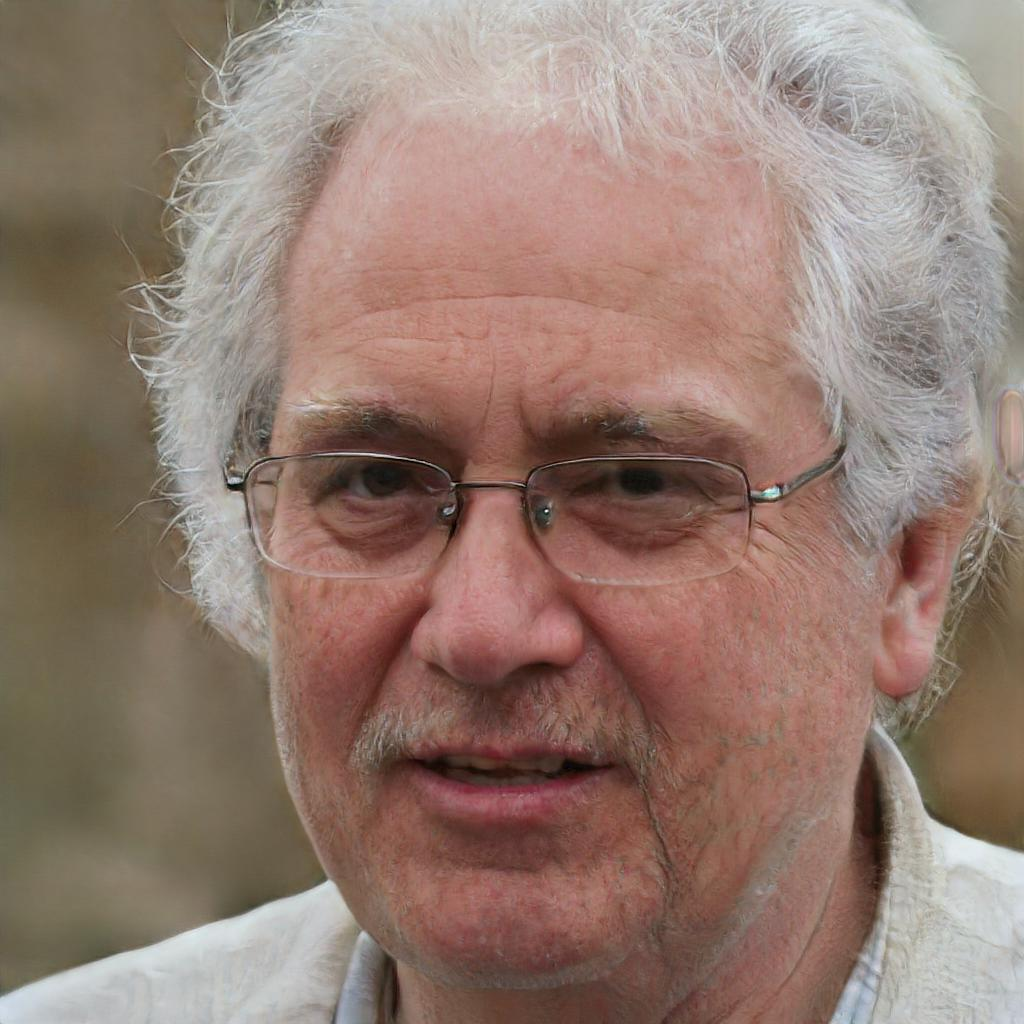face: (266, 99, 875, 987)
